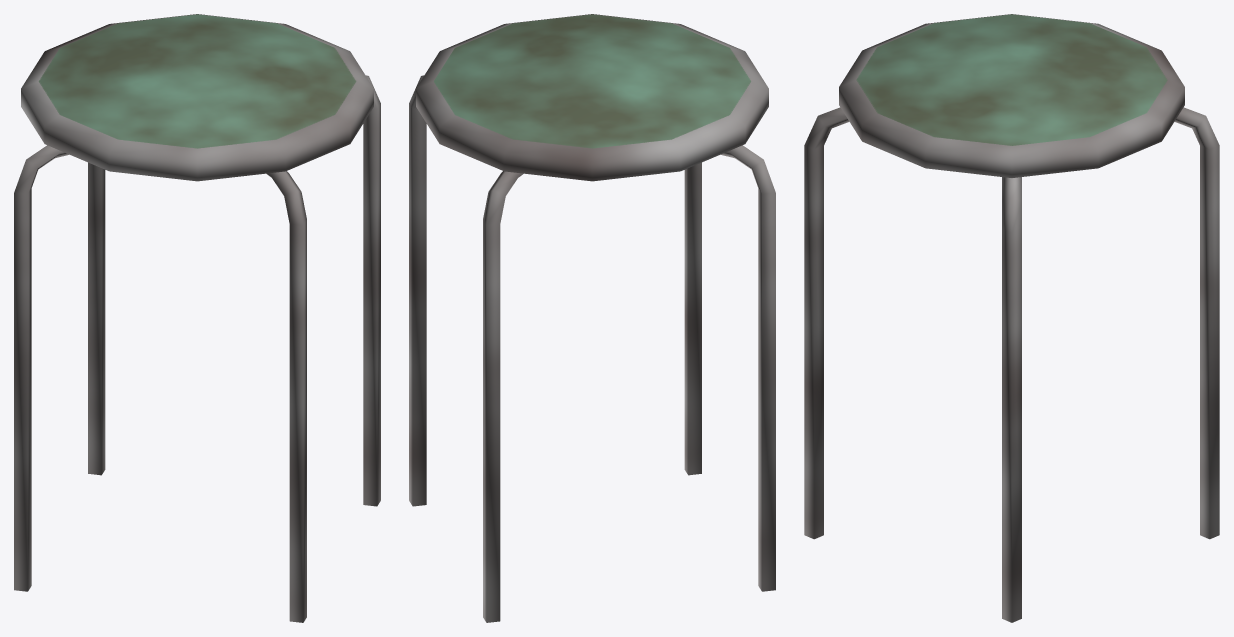
The model's file is stool.fbx.
The picture shows the model from 3 angles, left to right: view 1: azimuth 30°, elevation 25°; view 2: azimuth 150°, elevation 25°; view 3: azimuth 270°, elevation 25°; orthographic projection.
Visible parts, largest first — view 1: Circle; view 2: Circle; view 3: Circle.
Boxes of the visible parts, x1,y1,x2,y2 form: Circle: (14,14,380,622); Circle: (409,14,775,622); Circle: (804,14,1219,622).
Bounding box in the file's own units: 0.42 × 0.5173 × 0.42.
1 material, 1 textured.
